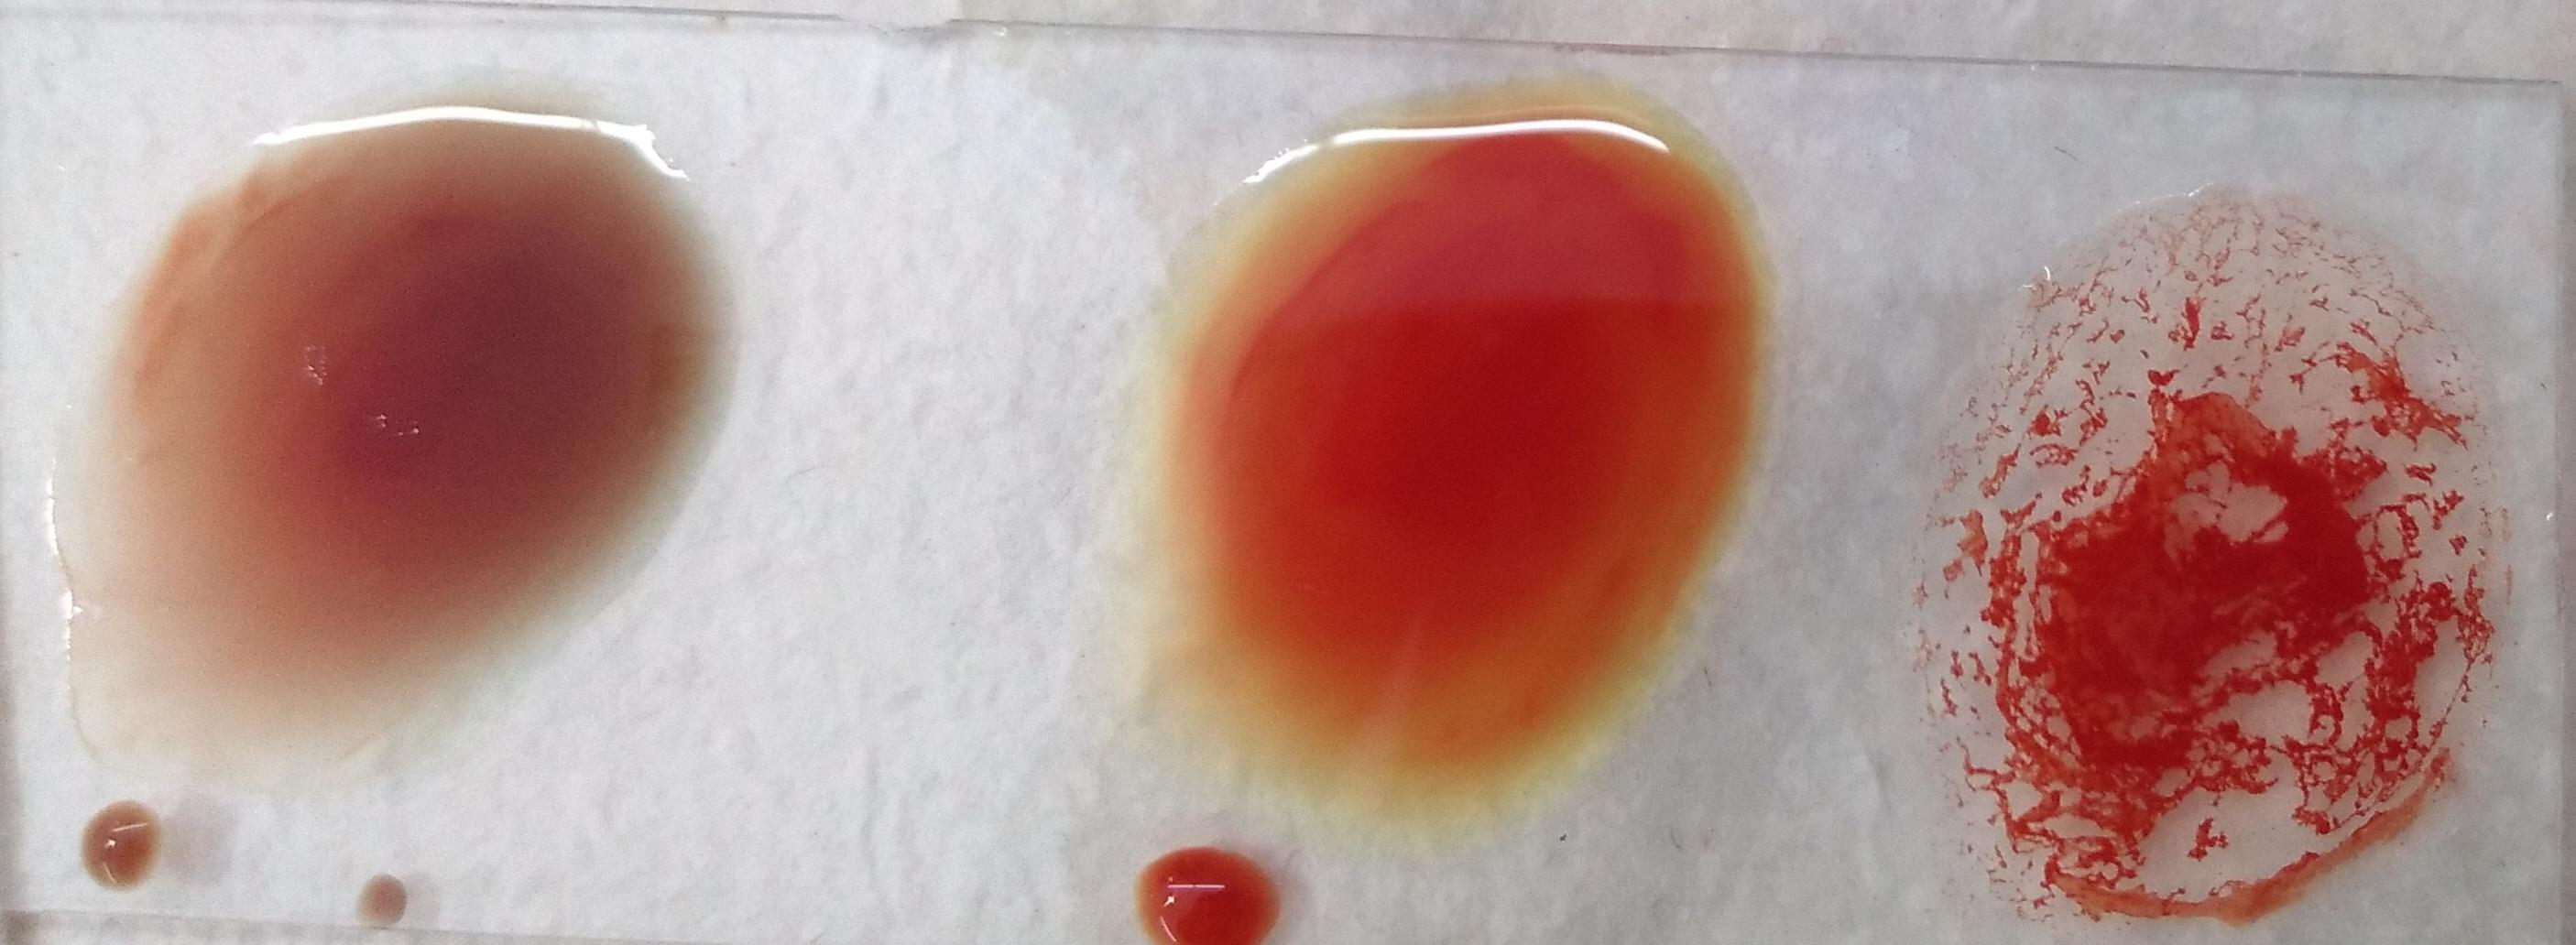D: (1907, 222, 2481, 933)
